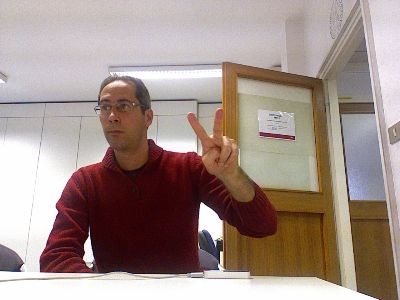剪刀: (185, 108, 239, 176)
